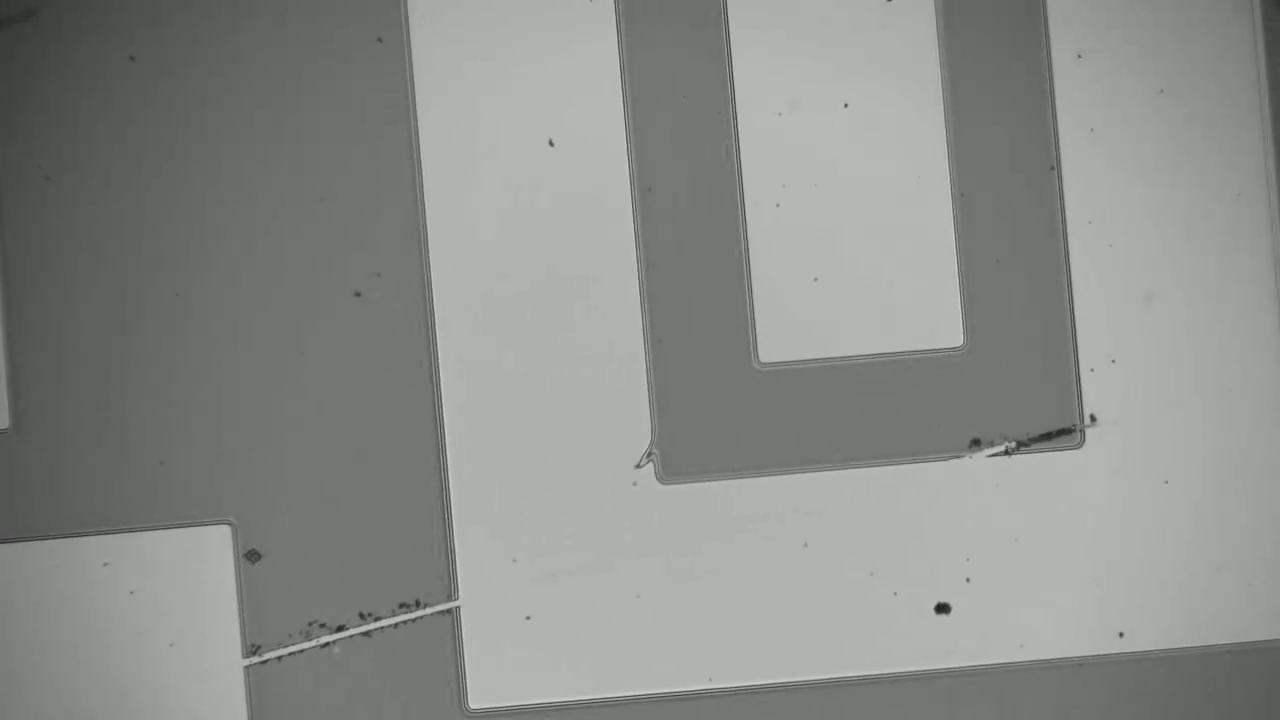scratch: (251, 598, 451, 662), (981, 418, 1076, 450)
